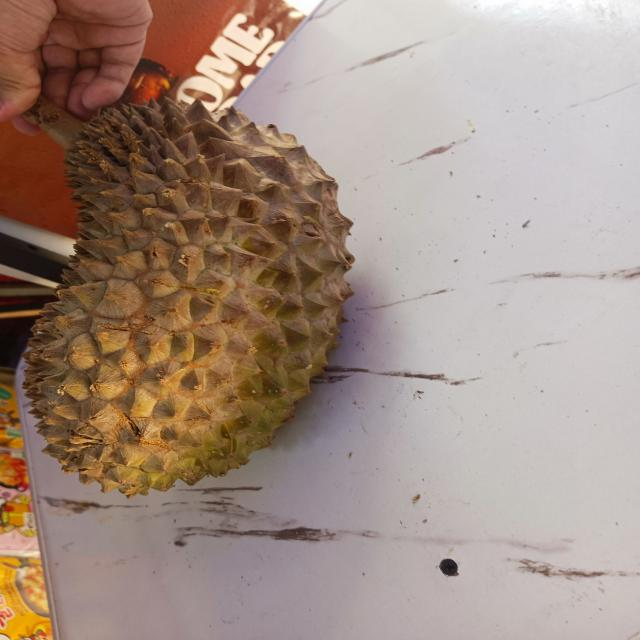mature: (23, 92, 356, 494)
